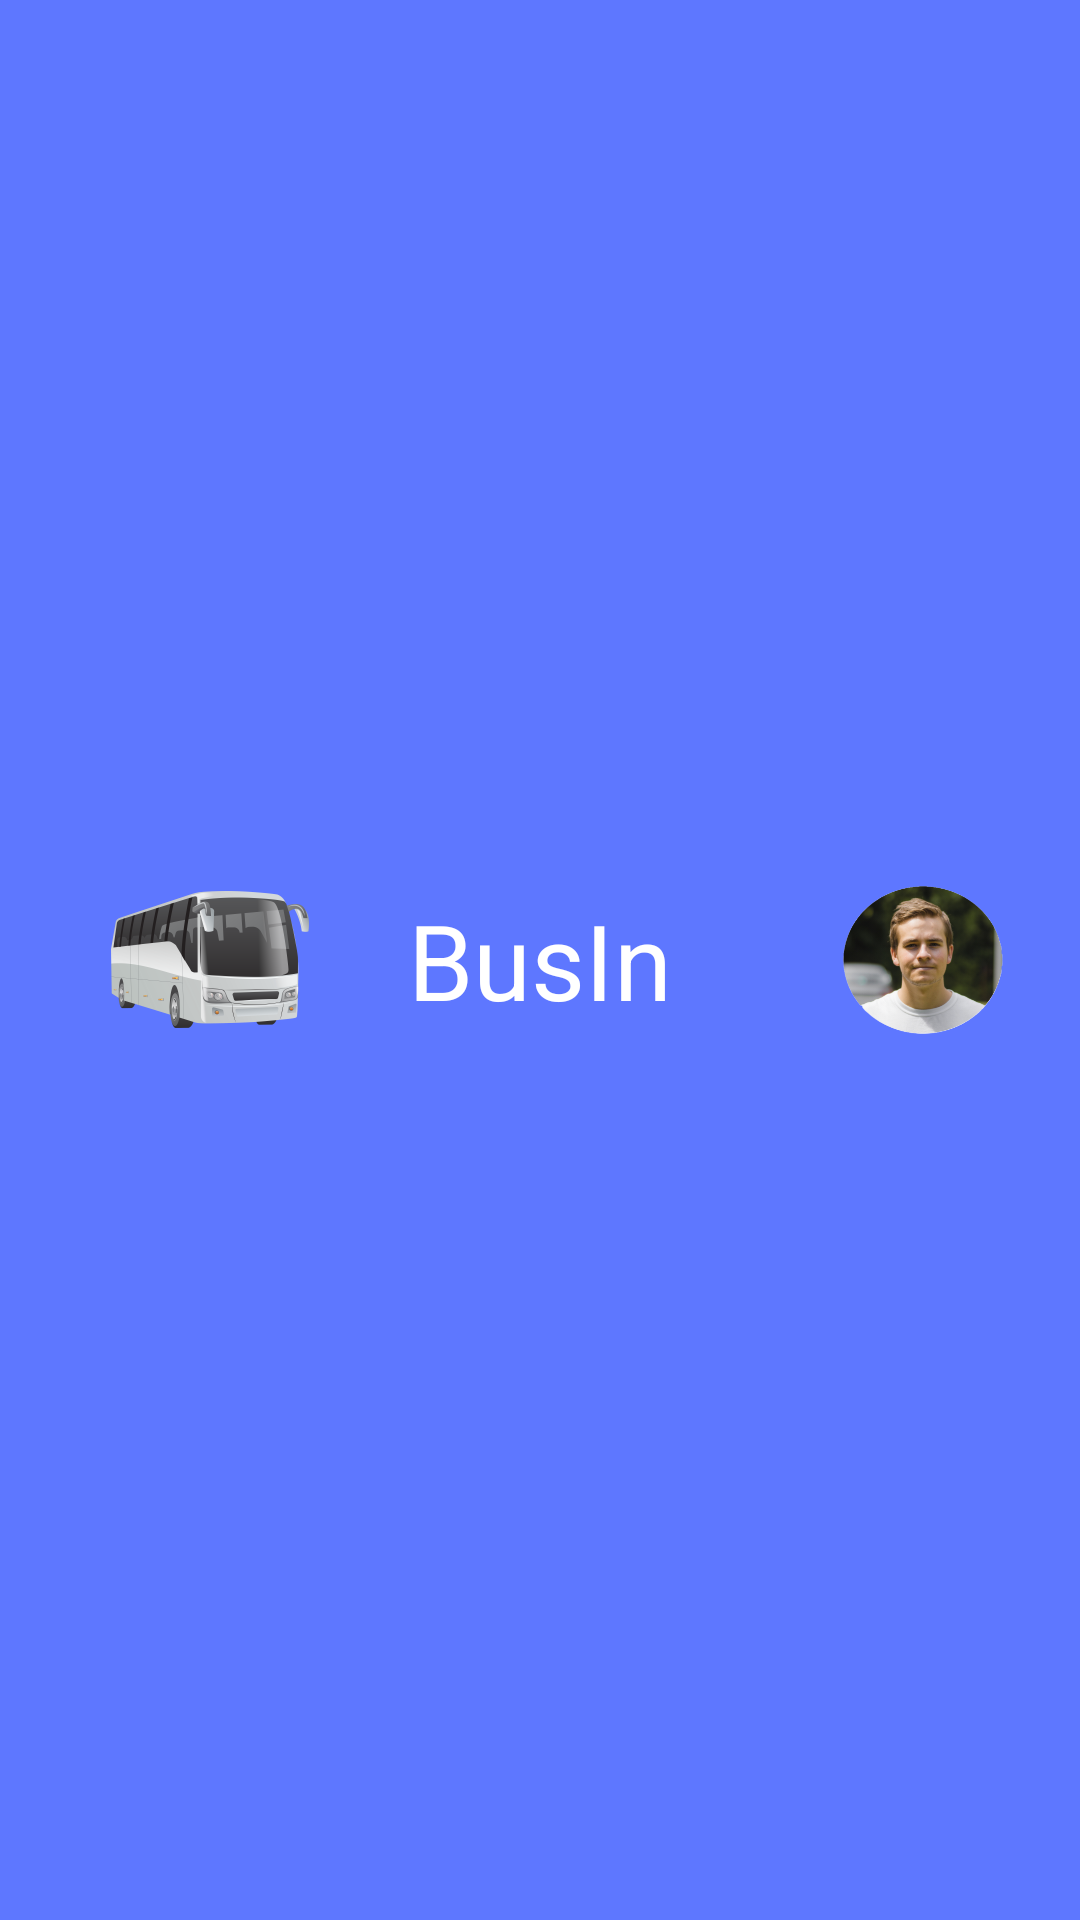

Icons on this 1080 x 1920 Android screen, each with its box as (x1, y1, x2, y2):
bus: (111, 891, 309, 1028)
person for login: (843, 886, 1003, 1034)
